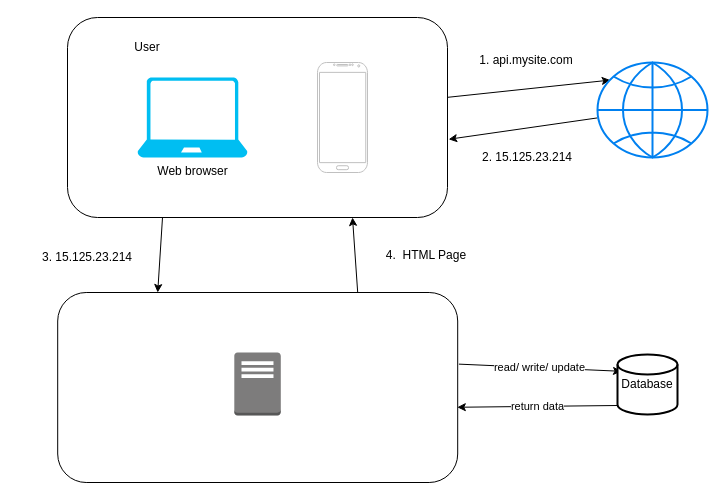
The diagram is 725 pixels wide and 500 high, and some of its shapes have lost their labels. Each missing label, with the box of its shape:
Mobile app: (316, 62, 368, 172)
Web server: (233, 352, 281, 416)
